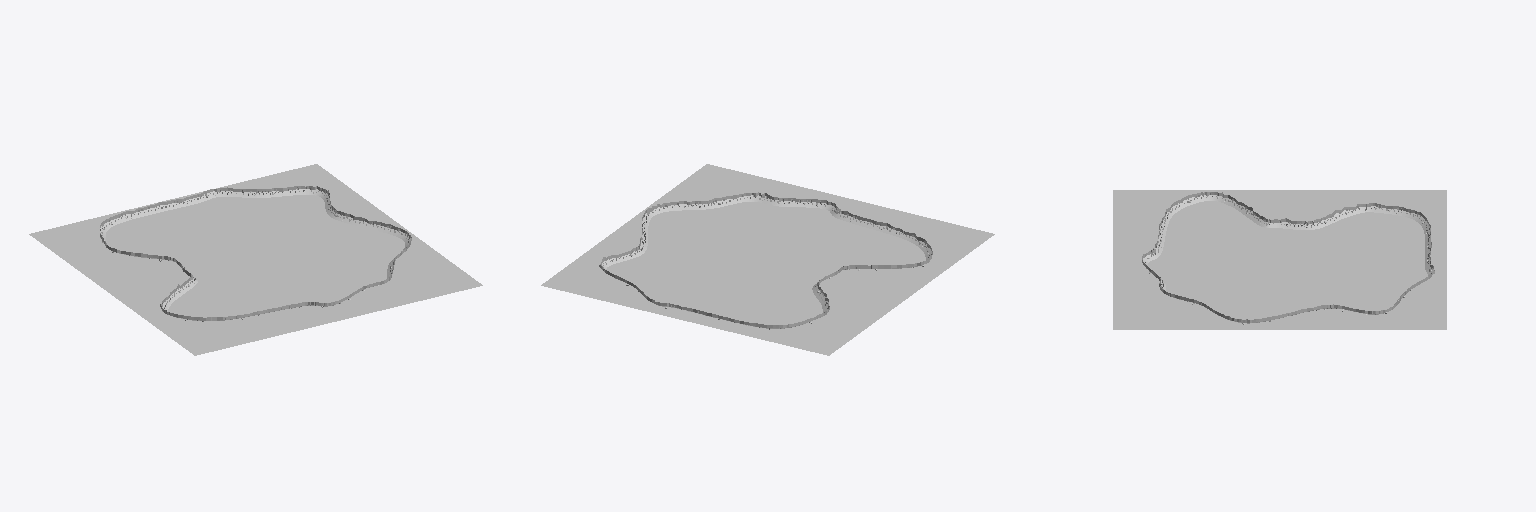
3 views of the same model, side by side, from view 1: azimuth 30°, elevation 25°; view 2: azimuth 150°, elevation 25°; view 3: azimuth 270°, elevation 25° (orthographic).
Visible parts, largest first — view 1: Plane, Wall_08, Wall_07, Wall_00, Wall_09; view 2: Plane, Wall_01, Wall_02, Wall_03; view 3: Plane, Wall_06, Wall_04, Wall_05.
Part boxes in pixels (x1,y1,x2,y2): Plane: (29, 164, 482, 355); Wall_08: (182, 187, 274, 206); Wall_07: (101, 199, 183, 231); Wall_00: (333, 211, 411, 244); Wall_09: (274, 186, 337, 217); Plane: (541, 164, 994, 355); Wall_01: (661, 192, 759, 211); Wall_02: (758, 193, 843, 218); Wall_03: (840, 211, 920, 244); Plane: (1113, 190, 1446, 329); Wall_06: (1322, 203, 1415, 225); Wall_04: (1171, 192, 1252, 217); Wall_05: (1248, 211, 1325, 229).
Size of the model in its own units: 1400 by 36.05 by 1400.